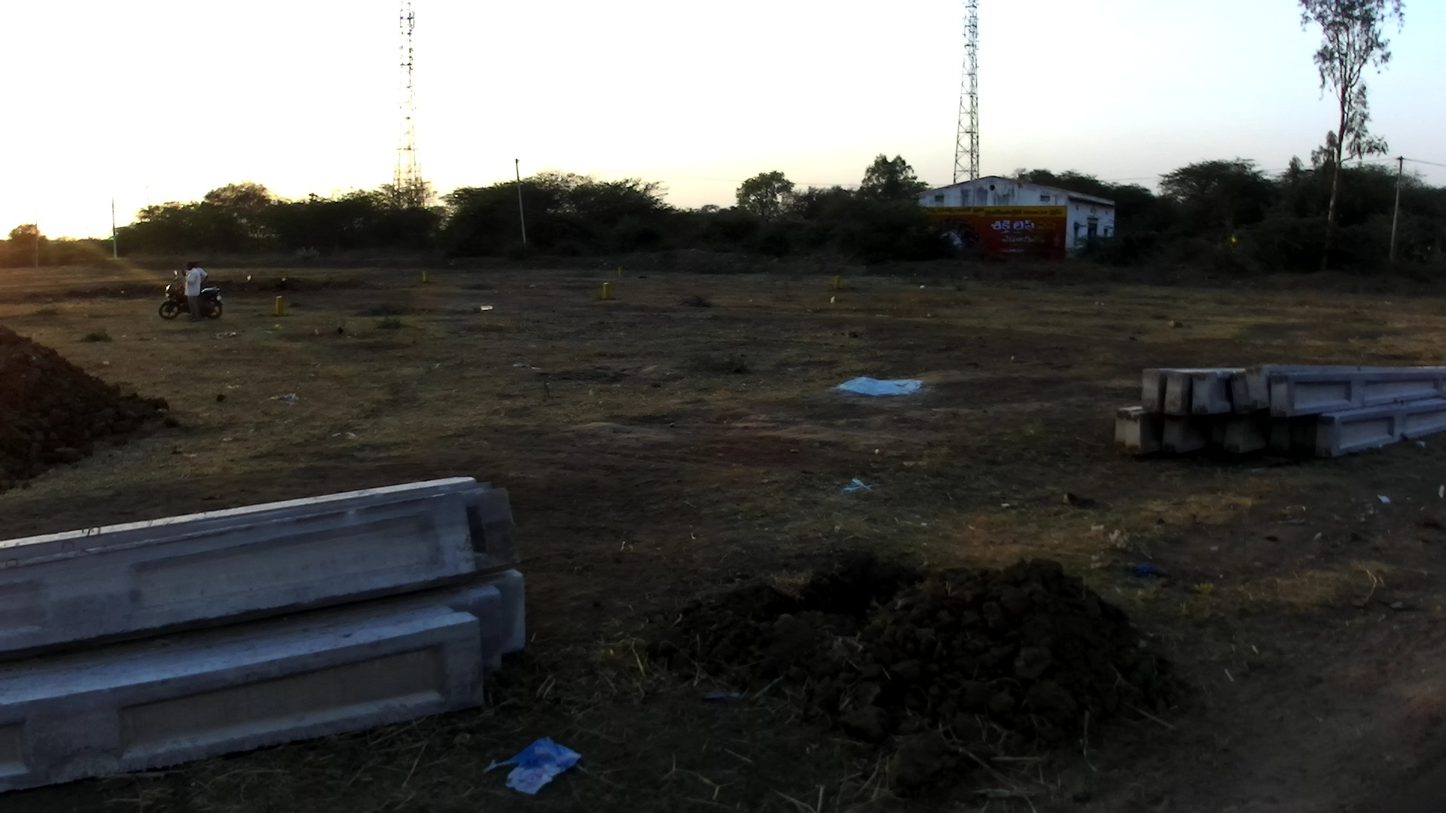motorcycle: (158, 269, 224, 322)
person: (182, 262, 203, 324), (191, 259, 209, 287)
